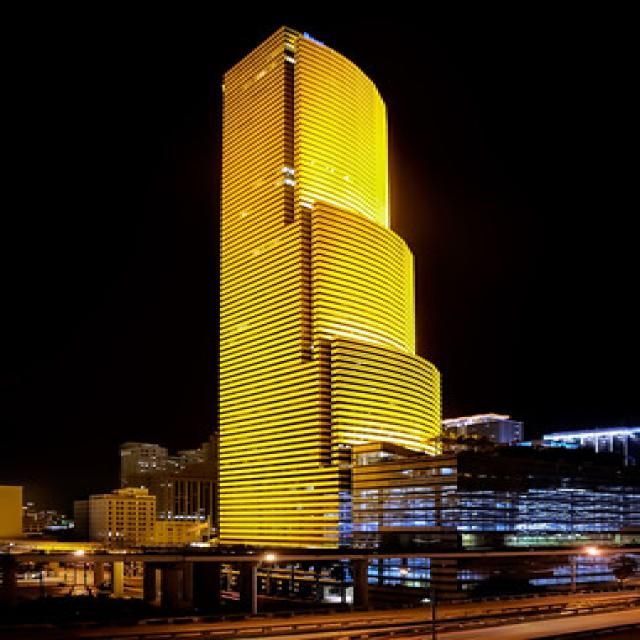building: (206, 23, 448, 548)
